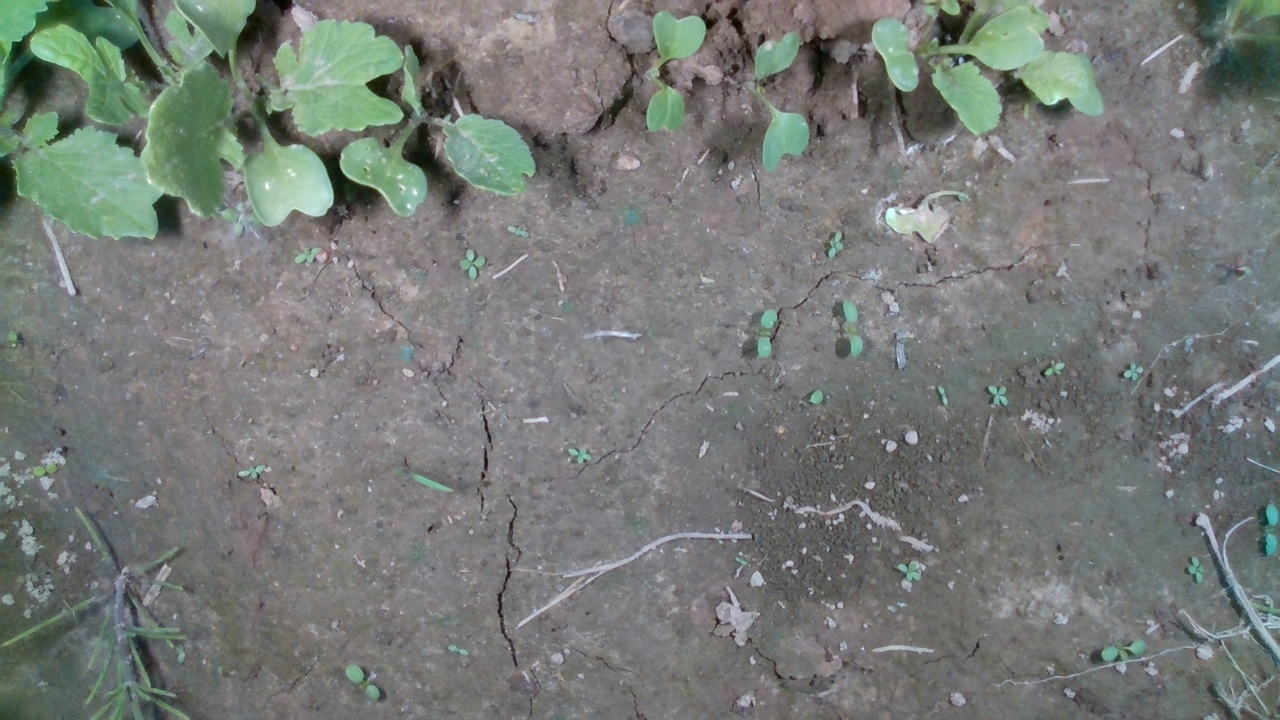weed: (344, 661, 382, 702), (843, 297, 865, 360), (1100, 638, 1149, 664), (755, 307, 779, 360), (454, 247, 487, 282), (1262, 500, 1278, 559), (293, 243, 322, 266), (895, 559, 921, 582), (826, 228, 845, 259), (1187, 554, 1205, 586), (986, 383, 1009, 408), (236, 462, 266, 481), (1121, 361, 1144, 383), (566, 445, 592, 464), (1043, 358, 1066, 379), (30, 462, 59, 477), (506, 224, 530, 238), (445, 644, 470, 656)
